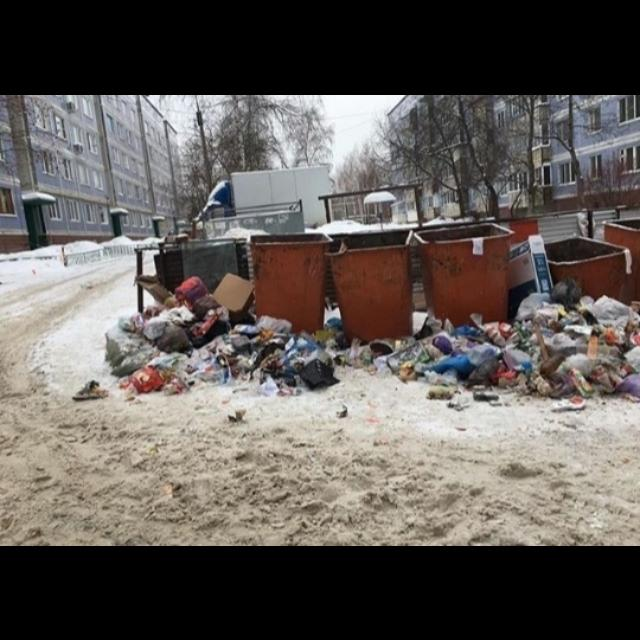Trash_Can_Empty: (413, 221, 516, 326), (247, 230, 333, 334), (544, 232, 629, 300), (604, 215, 640, 299)
